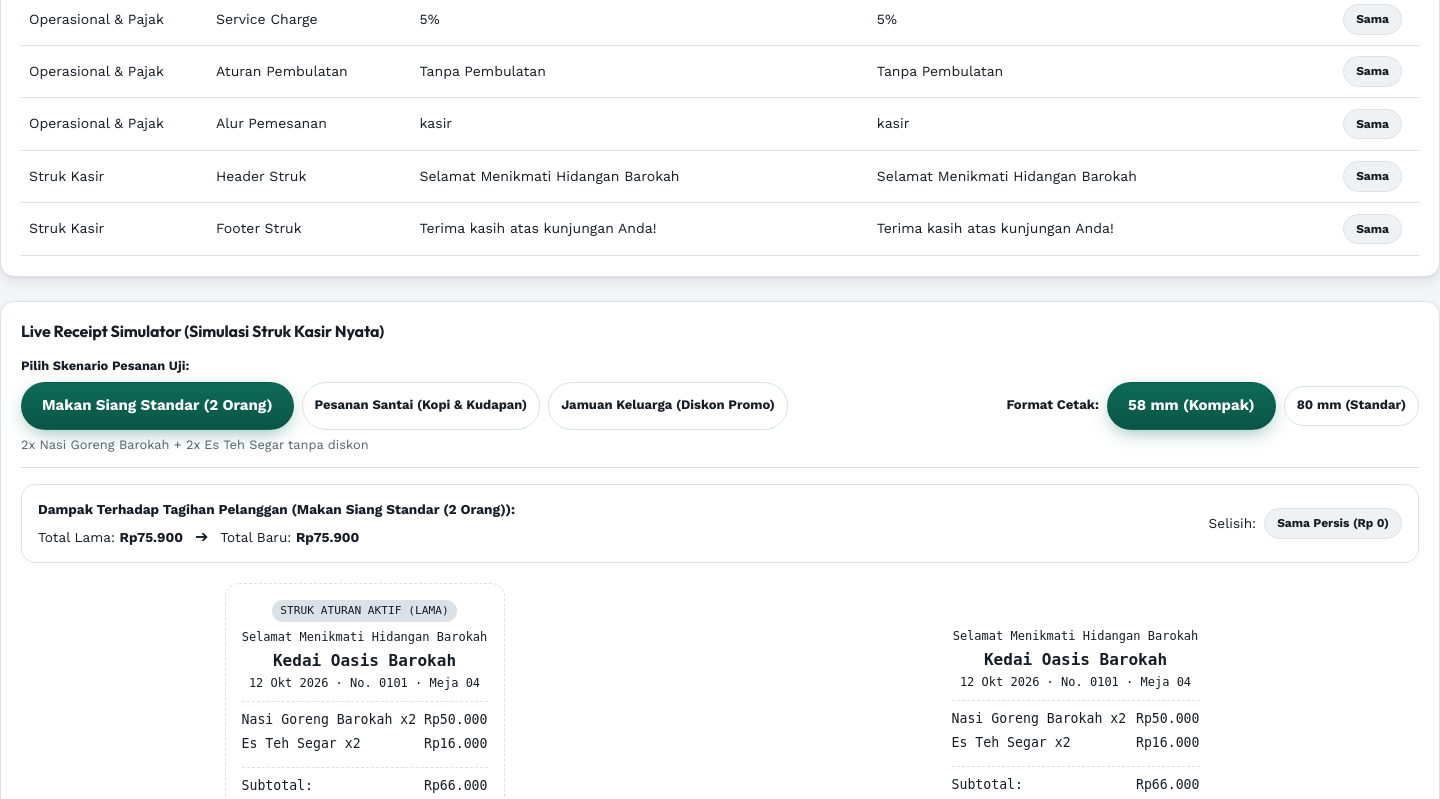
Test case: Pratinjau (Pratinjau Perubahan & Pengaman Riwayat — T9-11 / PRD M2) › dapat mengganti skenario transaksi uji untuk simulasi struk kasir
(page scrolled)
Expected: the button "Makan Siang Standar (2 Orang)" is shown, [21,382,294,430]
// Beralih ke skenario Kopi & Kudapan
What coordinates should you click on to do the following:
click the button with aria-label "pilih skenario pesanan santai"
I would click on:
 (421, 406)
Its box is [302,382,540,430].
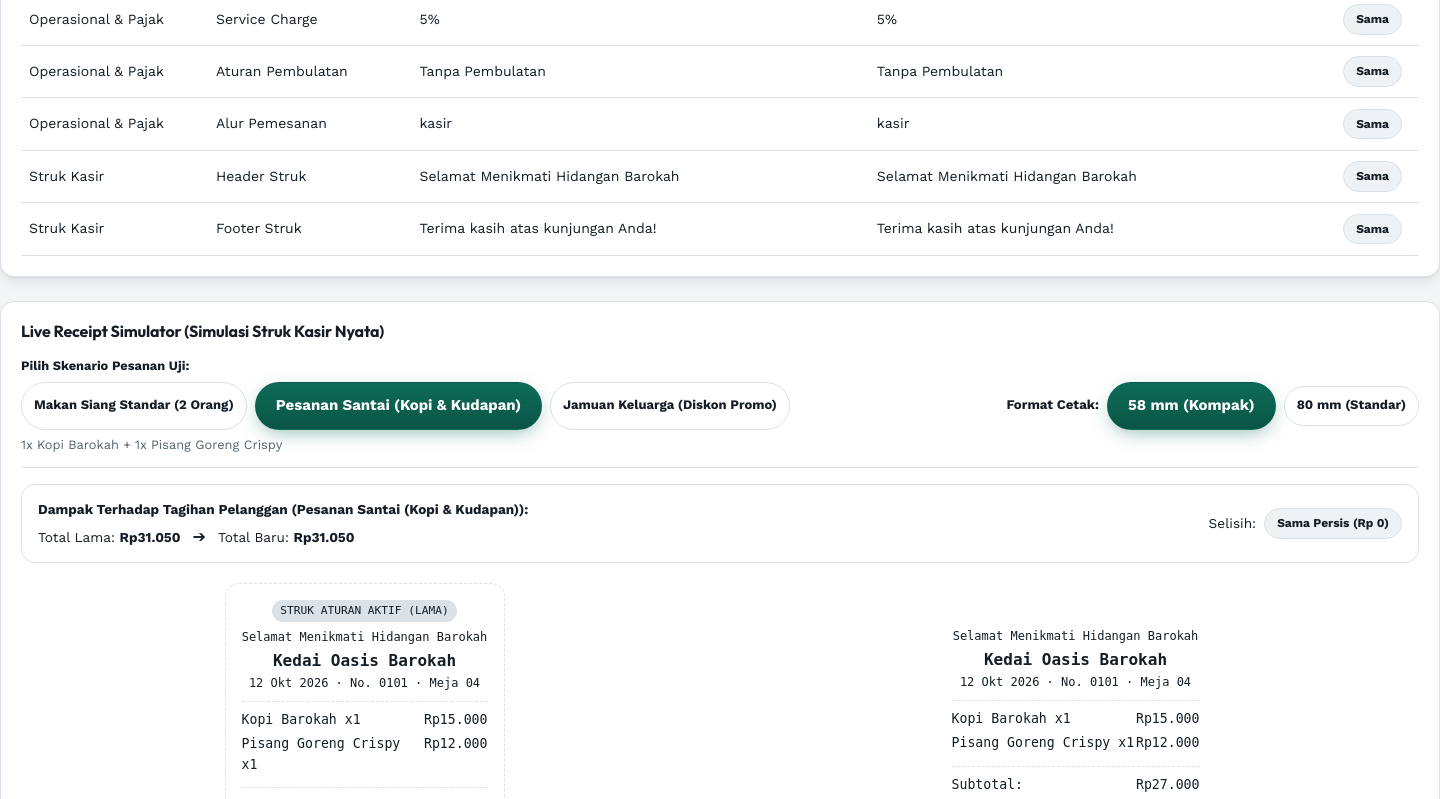
Now the text "1x Kopi Barokah + 1x Pisang Goreng Crispy" is shown, box [21,437,282,452]
